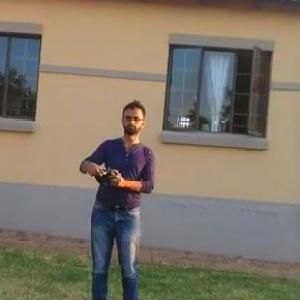follow: (72, 92, 163, 299)
